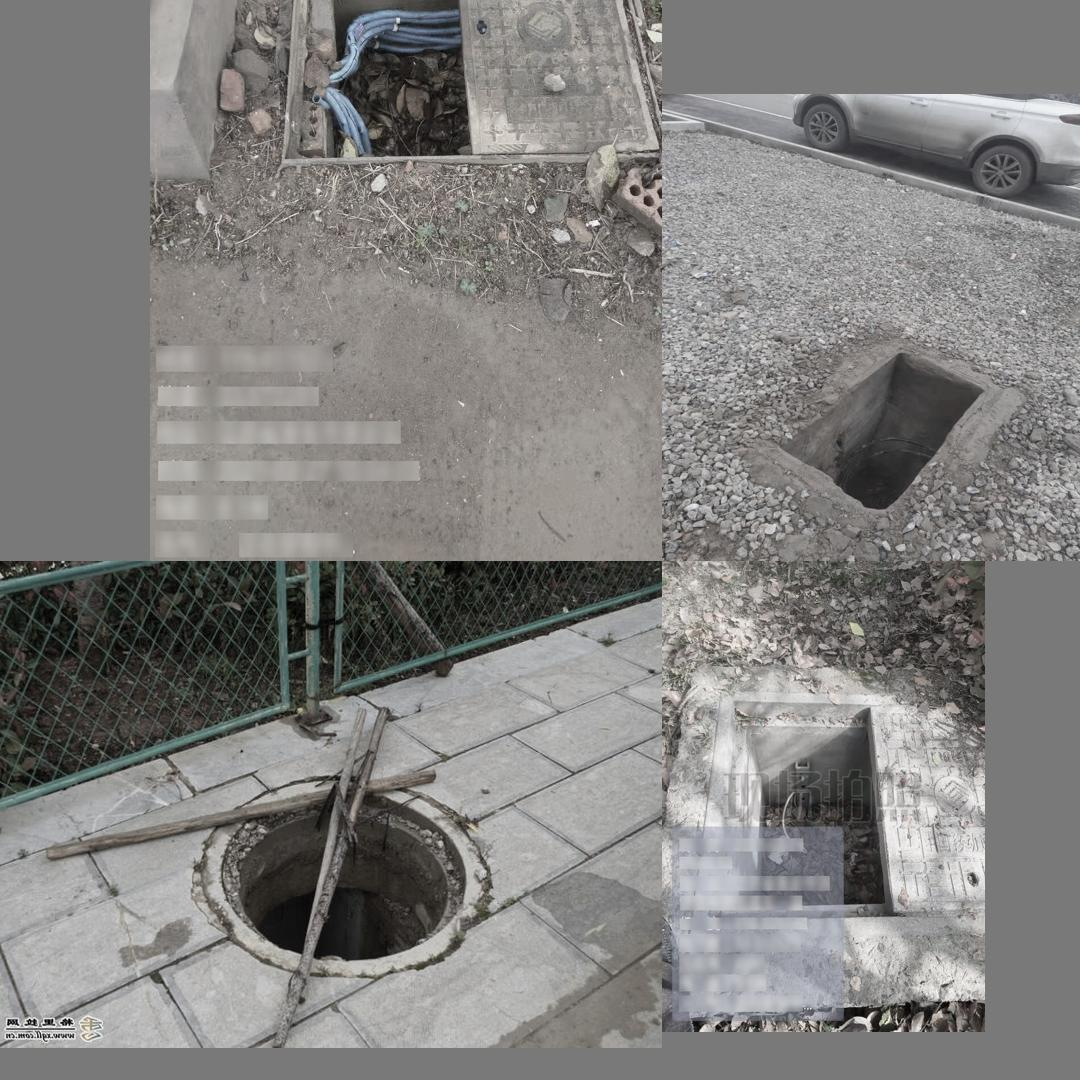lose: (278, 0, 662, 168), (193, 767, 480, 971), (697, 670, 911, 929), (778, 350, 989, 511)
